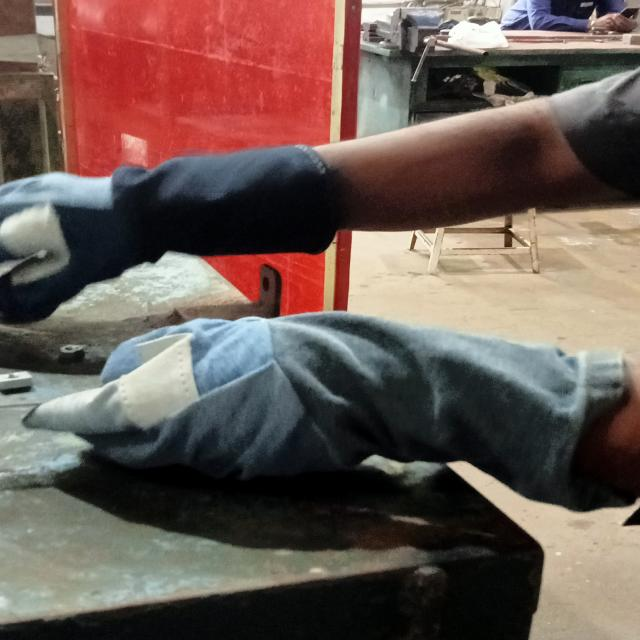Gloves-Detection: (30, 305, 623, 519), (0, 156, 358, 292)
